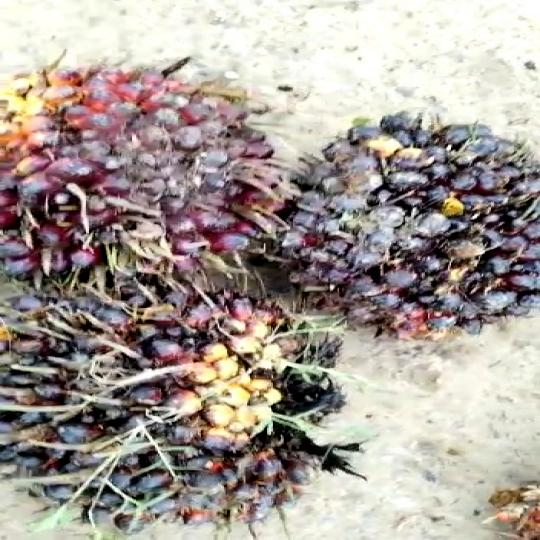kurang masak: (0, 277, 343, 540), (0, 66, 301, 286), (283, 100, 540, 349)
